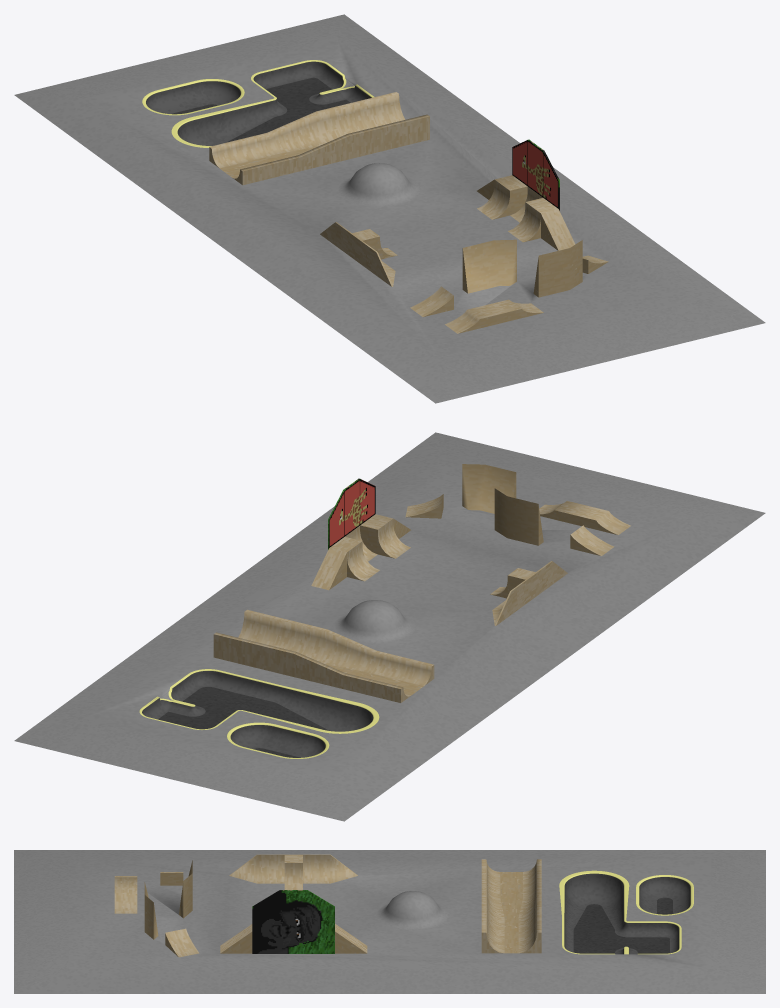
Rendered from skatepark 4.fbx.
3 renders of one model, top to bottom at view 1: azimuth 30°, elevation 25°; view 2: azimuth 150°, elevation 25°; view 3: azimuth 270°, elevation 25°, orthographic. The views are drawn at different scales.
Visible parts, largest first — view 1: Plane.004; view 2: Plane.004; view 3: Plane.004.
Boxes of the visible parts, left/top/right/bottom form: Plane.004: left=14, top=14, right=765, bottom=403; Plane.004: left=14, top=432, right=765, bottom=821; Plane.004: left=14, top=850, right=765, bottom=993.
Bounding box in the file's own units: 74.1 × 20.6 × 164.
